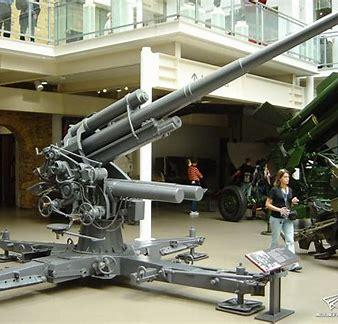MIL_SPG: (0, 13, 338, 315)
